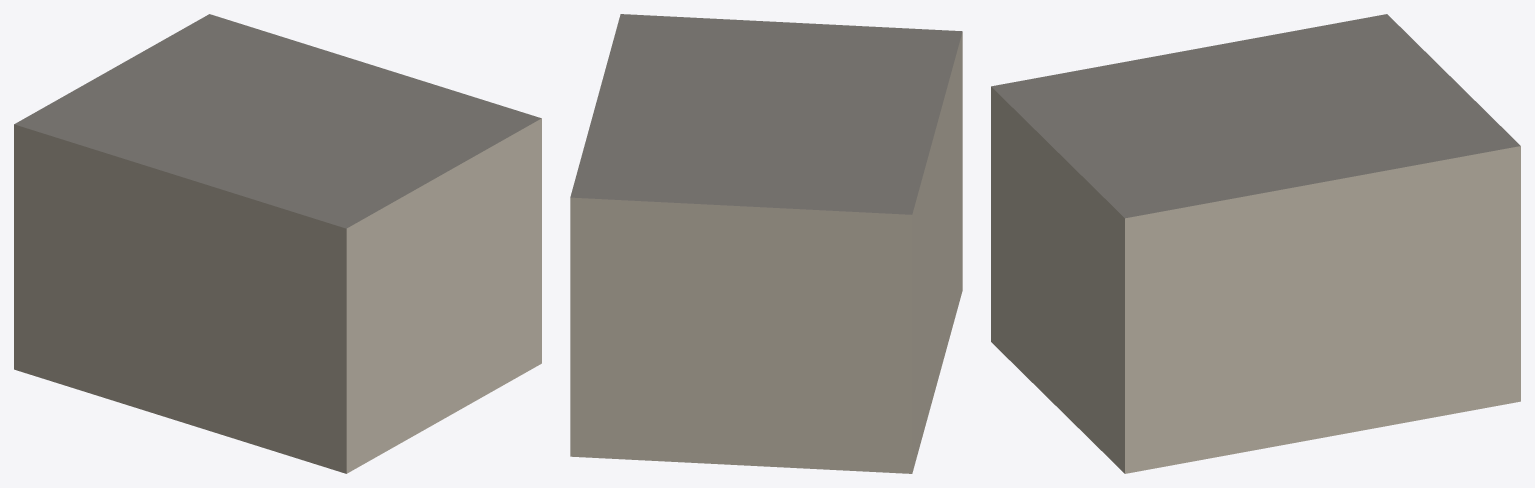
The picture shows the model from 3 angles, left to right: view 1: azimuth 30°, elevation 25°; view 2: azimuth 150°, elevation 25°; view 3: azimuth 270°, elevation 25°; orthographic projection. The views are drawn at different scales.
Visible parts, largest first — view 1: HP-w1287059329; view 2: HP-w1287059329; view 3: HP-w1287059329.
Boxes of the visible parts, x1=… form: HP-w1287059329: x1=14, y1=14, x2=541, y2=473; HP-w1287059329: x1=570, y1=14, x2=962, y2=473; HP-w1287059329: x1=991, y1=14, x2=1520, y2=473.
Size of the model in its own units: 30.86 by 18 by 33.82.
